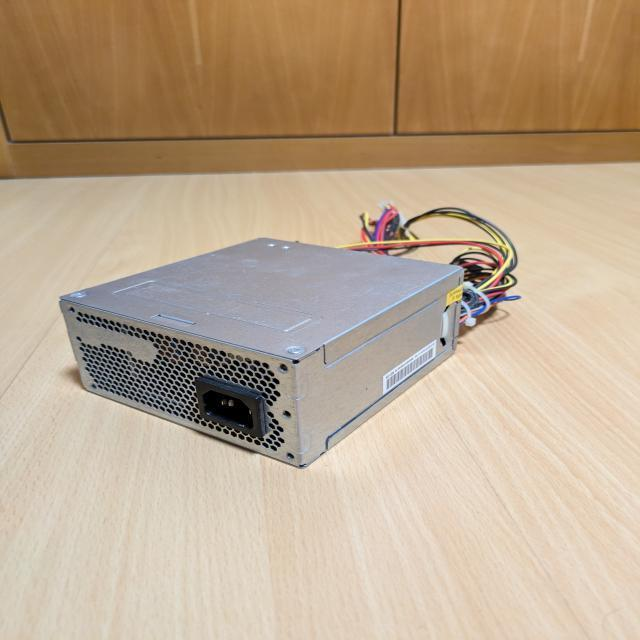PSU: (59, 236, 464, 469)
